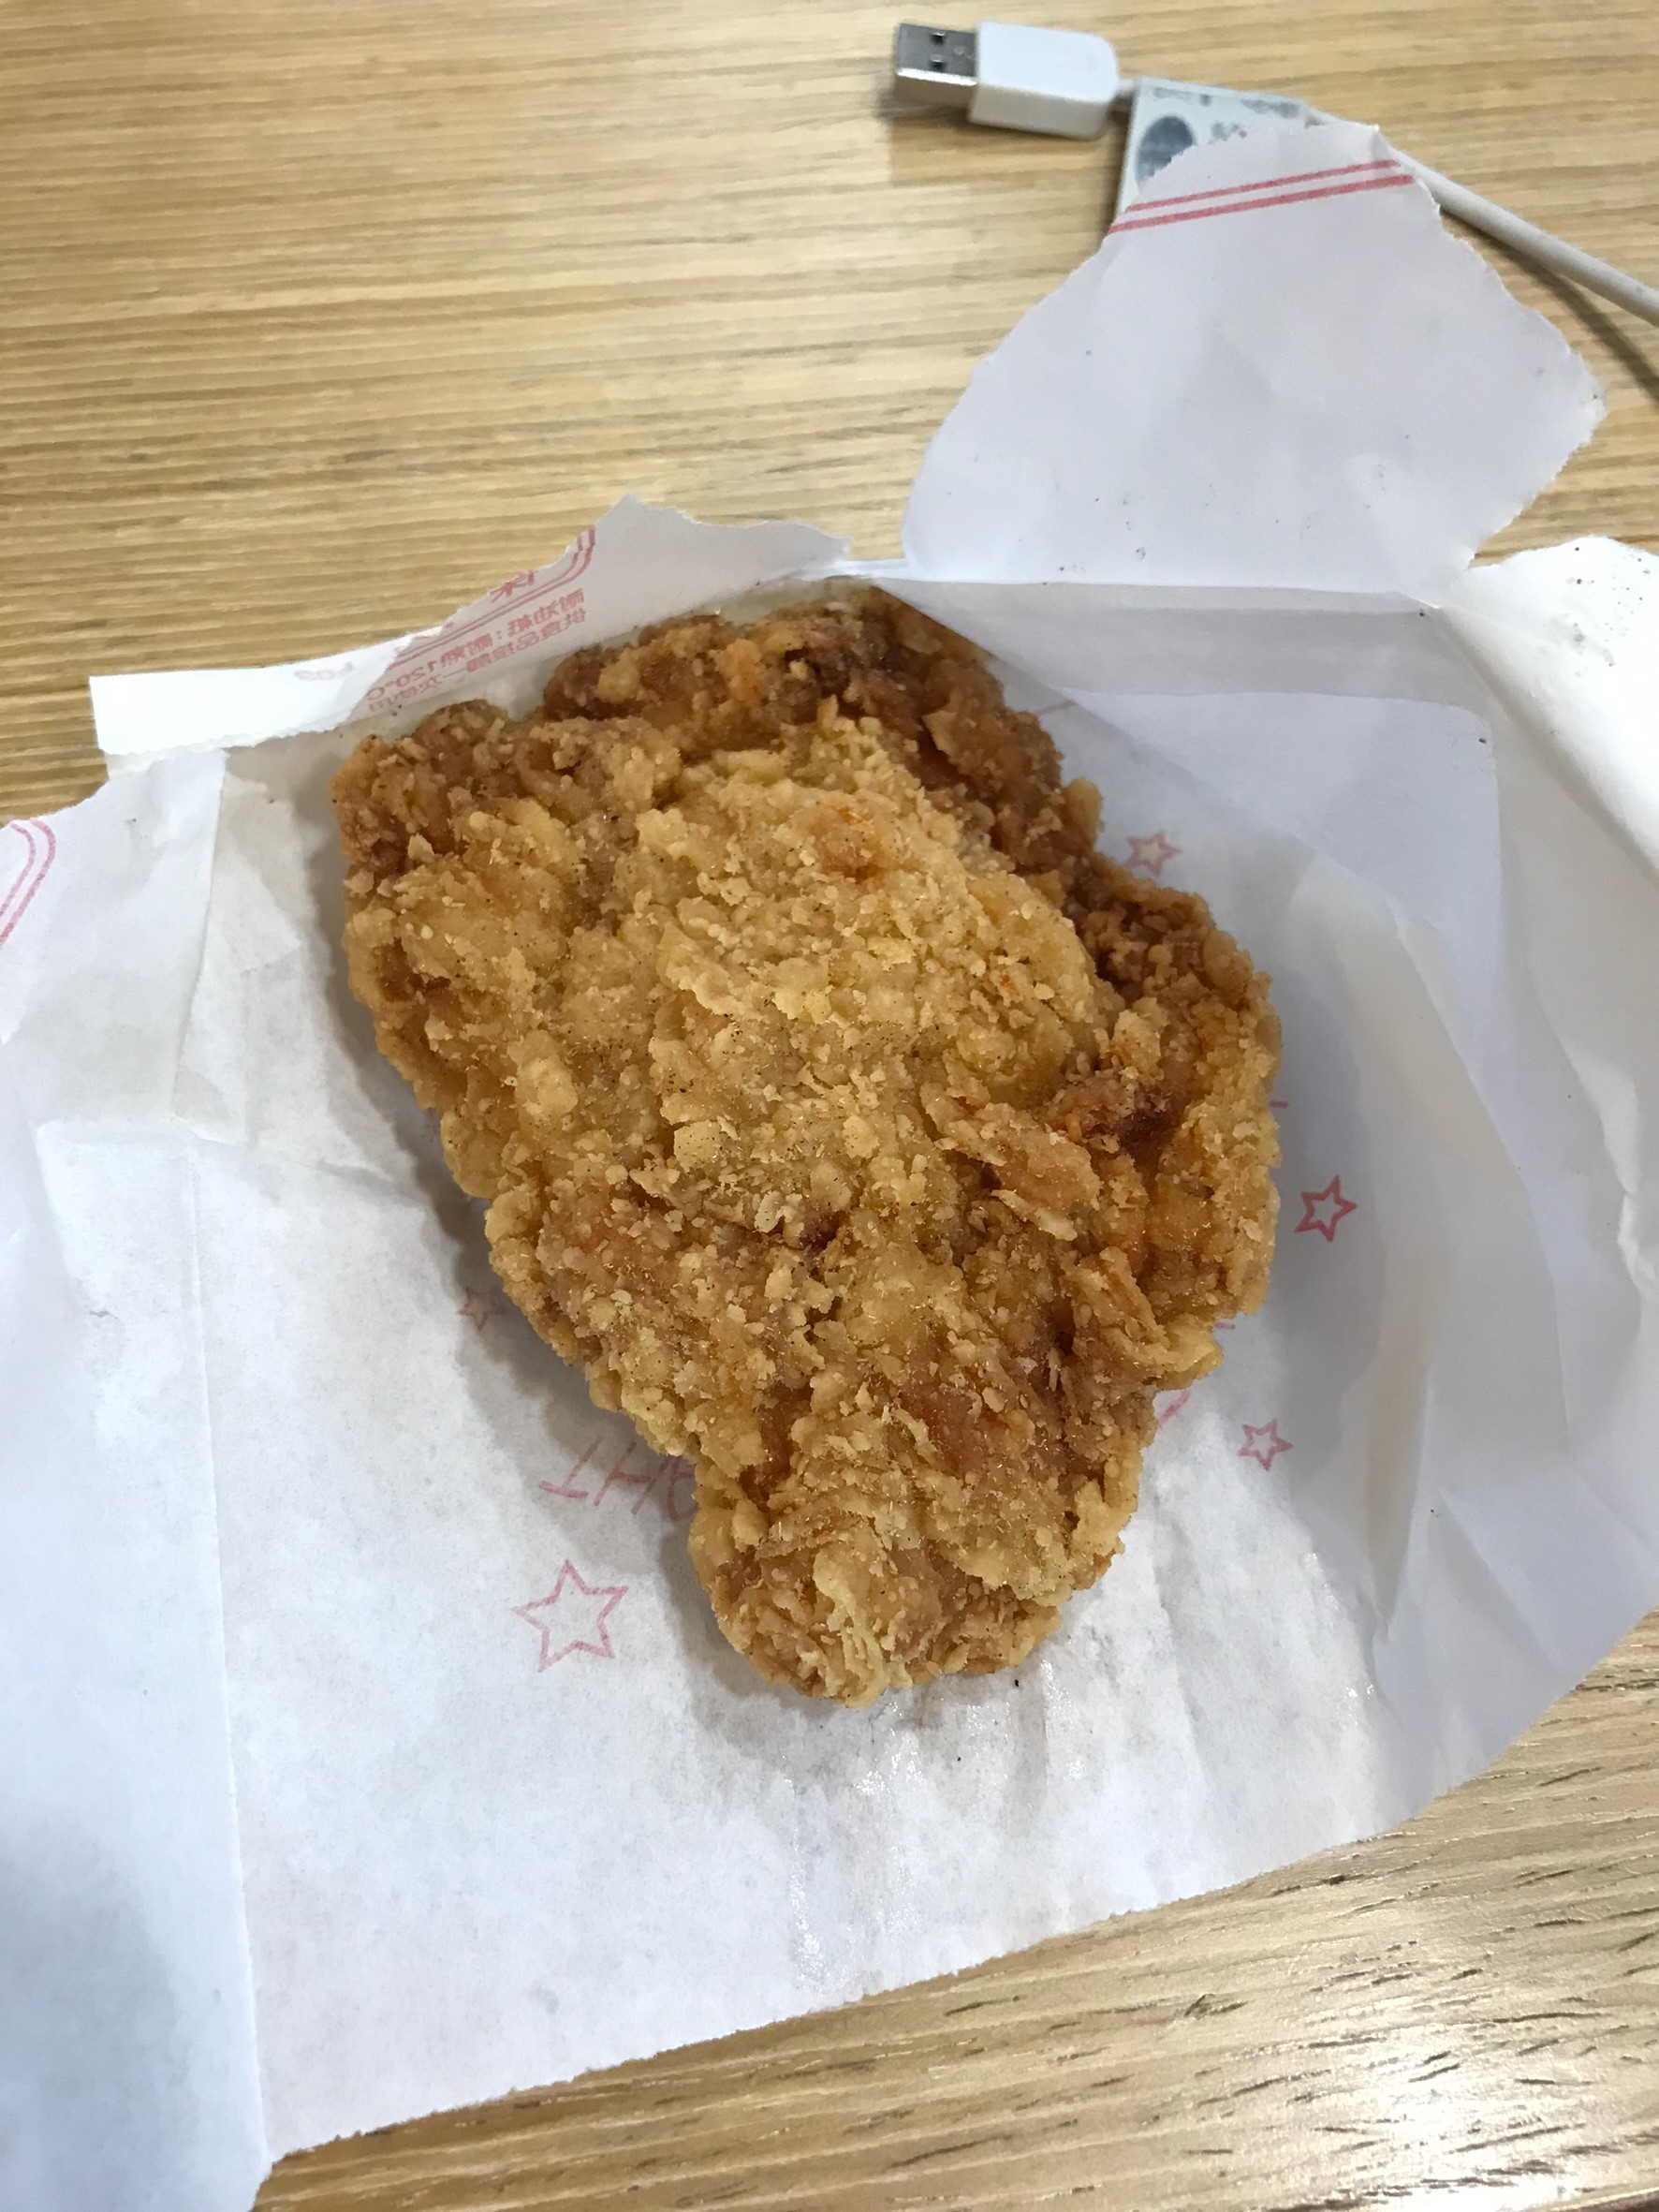fried_chicken: (314, 591, 1288, 1713)
